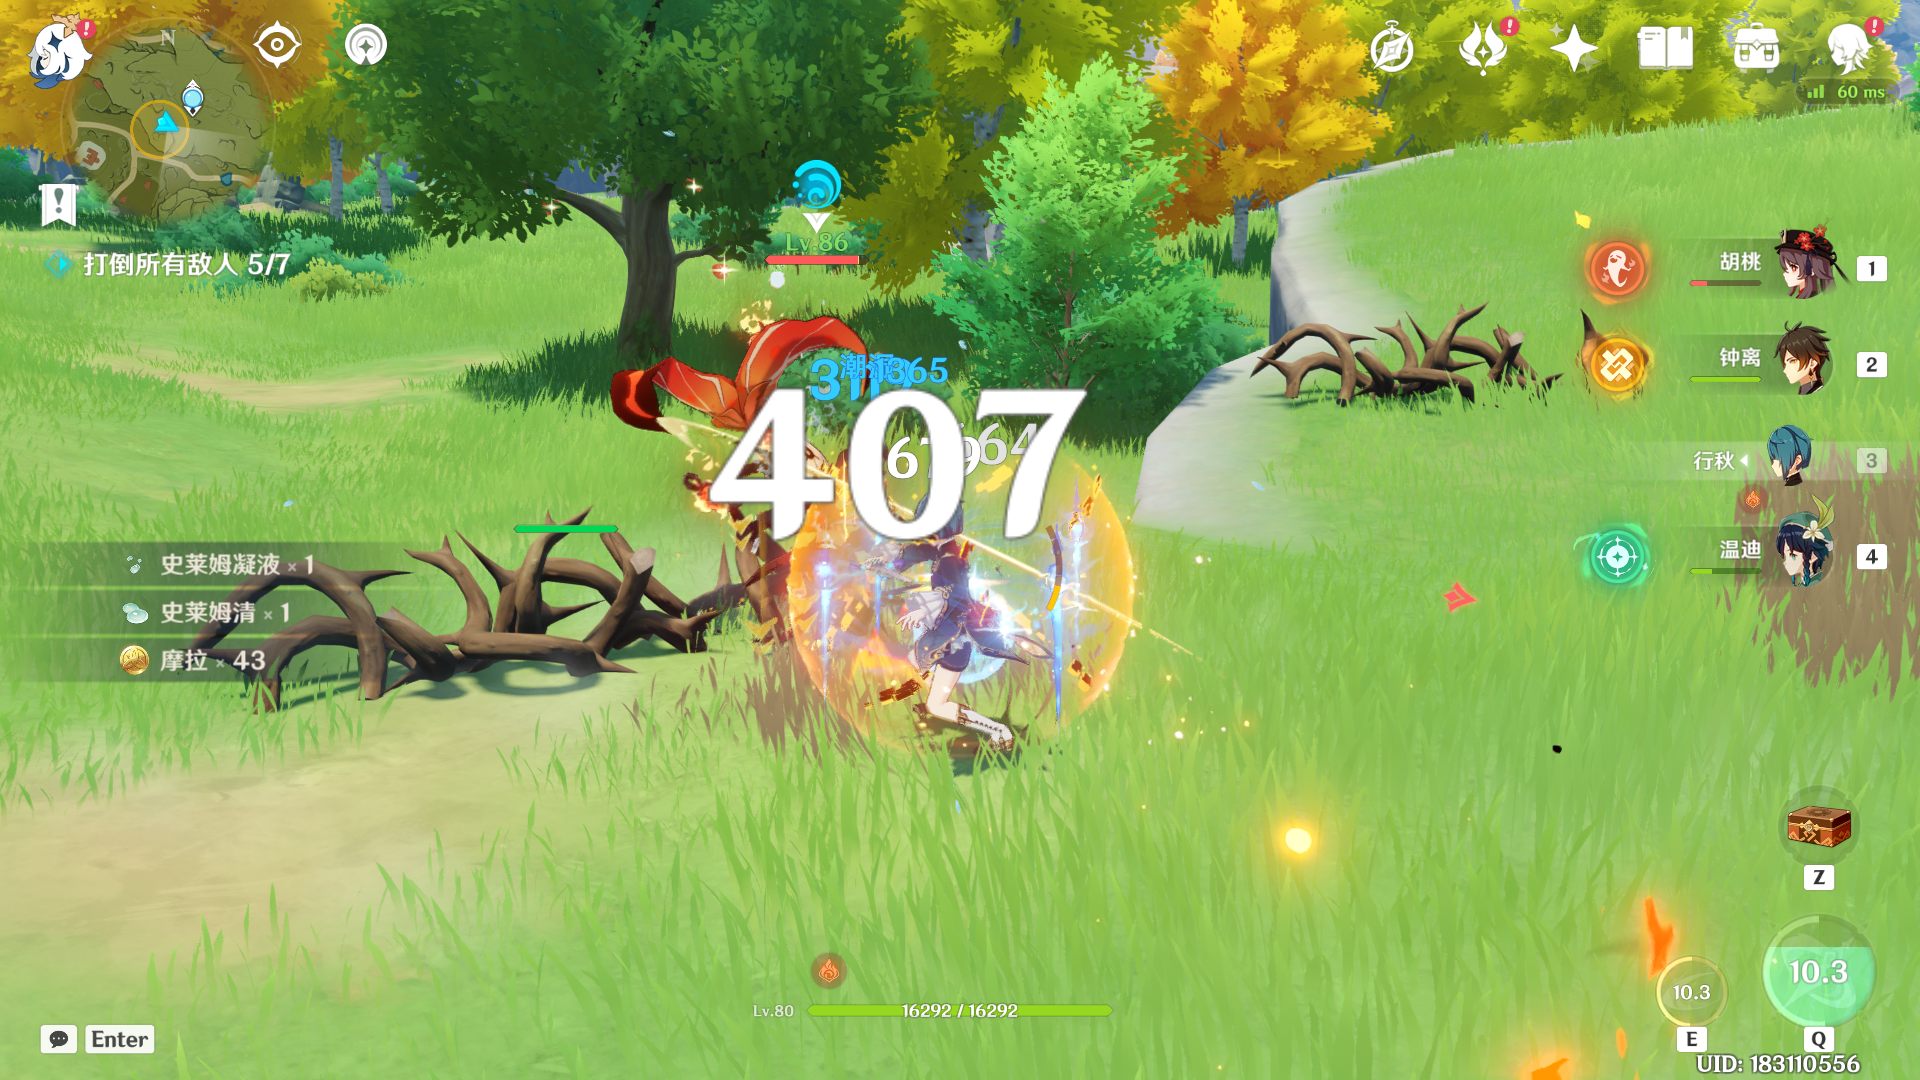character: (814, 431, 1083, 832)
